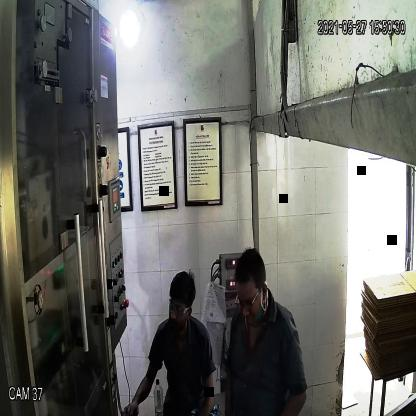goggles: (232, 296, 262, 316), (167, 296, 193, 317)
